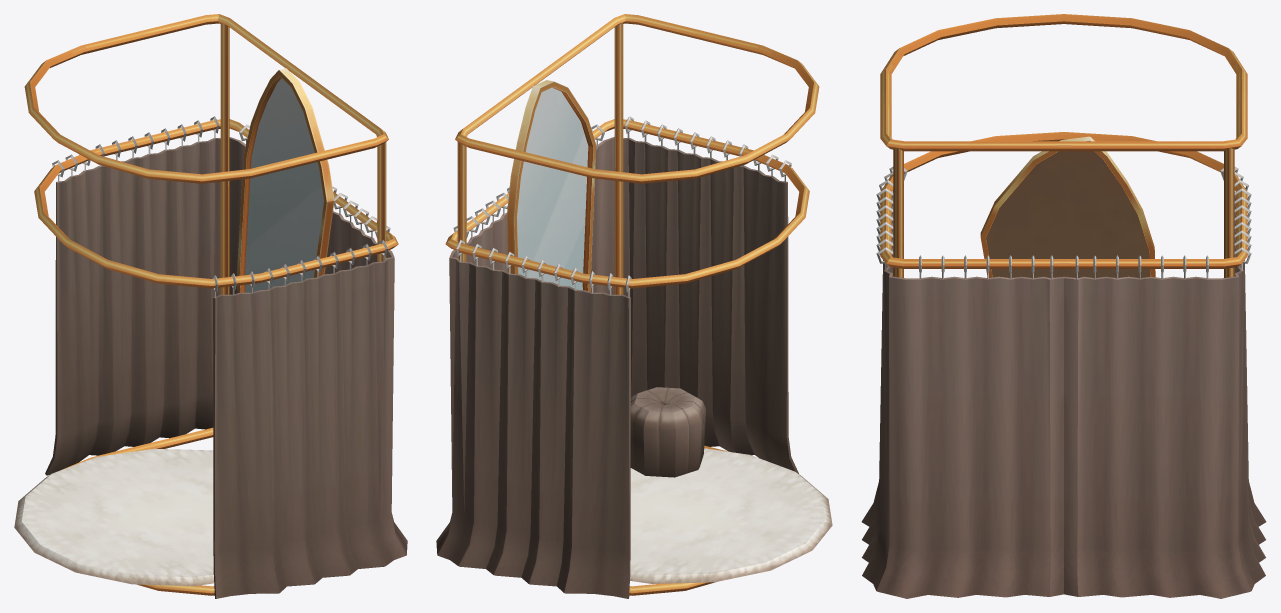
Rendered from my_shoppingmall_01_fittingroom_01.glb.
3 renders of one model, left to right at view 1: azimuth 30°, elevation 25°; view 2: azimuth 150°, elevation 25°; view 3: azimuth 270°, elevation 25°, orthographic. The views are drawn at different scales.
Visible parts, largest first — view 1: my_shoppingmall_01_fittingroom_01; view 2: my_shoppingmall_01_fittingroom_01; view 3: my_shoppingmall_01_fittingroom_01.
Part boxes in pixels (x1,y1,x2,y2): my_shoppingmall_01_fittingroom_01: (14,14,407,598); my_shoppingmall_01_fittingroom_01: (436,14,832,598); my_shoppingmall_01_fittingroom_01: (861,14,1266,598).
Bounding box in the file's own units: 0.0108 × 0.0146 × 0.012.
Materials: 1 (1 with a texture image).
